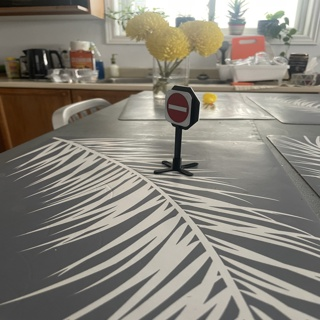sign_noentry: (161, 89, 191, 127)
